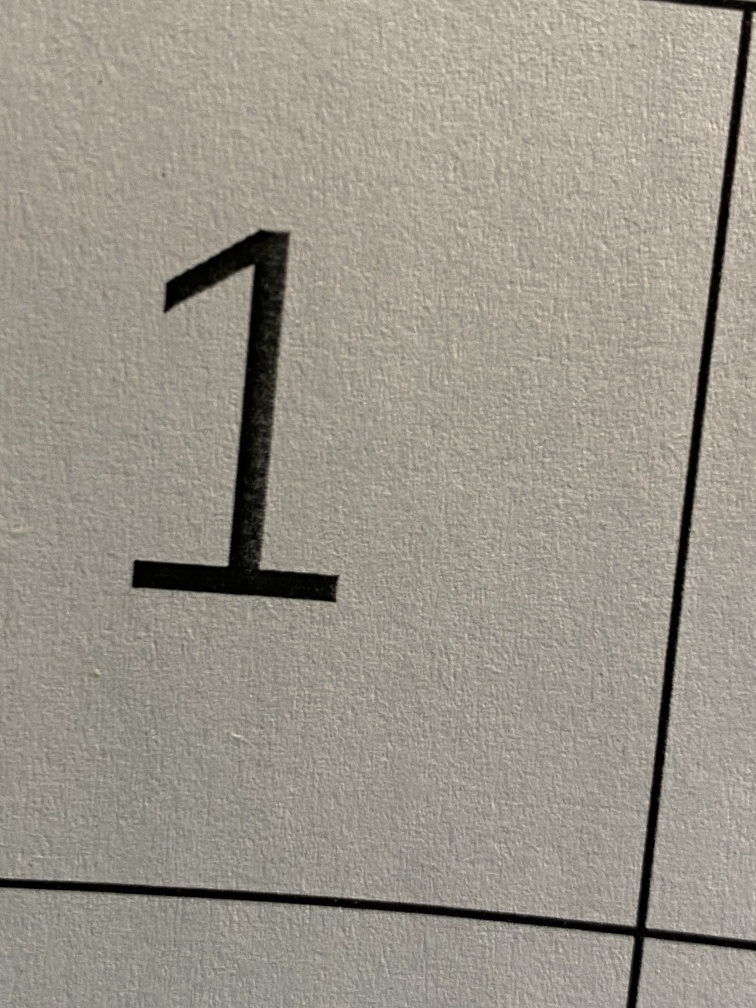one: (107, 201, 371, 654)
